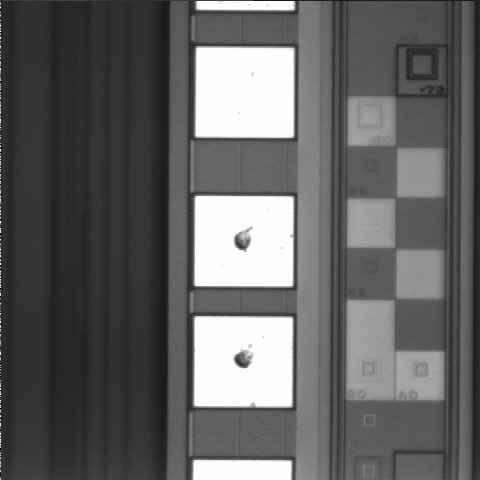pad: (194, 316, 293, 407), (196, 47, 294, 138), (195, 196, 293, 286)
